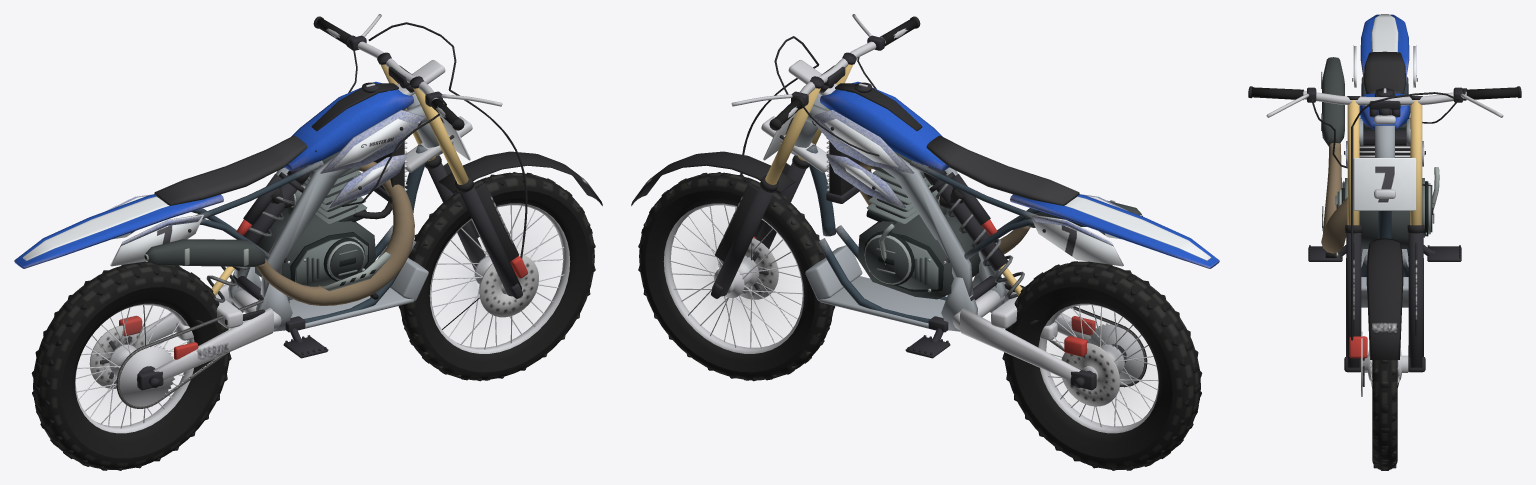
File: street01-bike-mobile.glb
The picture shows the model from 3 angles, left to right: view 1: azimuth 30°, elevation 25°; view 2: azimuth 150°, elevation 25°; view 3: azimuth 270°, elevation 25°; orthographic projection. The views are drawn at different scales.
Parts seen in each view (by area): view 1: wheel_rear, bodywork, wheel_front, frame, exhaust, engine, fork_lower, swingarm, fork_upper, handlebar, sprocket_rear, shock_body (+7 smaller); view 2: wheel_rear, bodywork, wheel_front, frame, engine, fork_lower, swingarm, fork_upper, handlebar, wheel_front_blur, wheel_front_spokes, shock_body (+6 smaller); view 3: fork_lower, fork_upper, bodywork, handlebar, exhaust, wheel_front, frame, engine, pegs, brake_hose.
Boxes of the visible parts, x1=… form: wheel_rear: x1=31, y1=261, x2=231, y2=470; bodywork: x1=14, y1=81, x2=424, y2=268; wheel_front: x1=398, y1=172, x2=595, y2=381; frame: x1=191, y1=93, x2=442, y2=332; exhaust: x1=144, y1=161, x2=414, y2=305; engine: x1=255, y1=150, x2=378, y2=299; fork_lower: x1=425, y1=151, x2=602, y2=298; swingarm: x1=119, y1=281, x2=281, y2=390; fork_upper: x1=377, y1=52, x2=472, y2=184; handlebar: x1=313, y1=14, x2=502, y2=206; sprocket_rear: x1=117, y1=345, x2=174, y2=406; shock_body: x1=232, y1=167, x2=310, y2=270; wheel_rear: x1=1002, y1=261, x2=1202, y2=470; bodywork: x1=809, y1=81, x2=1219, y2=268; wheel_front: x1=638, y1=172, x2=835, y2=381; frame: x1=791, y1=93, x2=1042, y2=332; engine: x1=858, y1=151, x2=980, y2=299; fork_lower: x1=631, y1=151, x2=808, y2=298; swingarm: x1=952, y1=282, x2=1096, y2=390; fork_upper: x1=761, y1=52, x2=856, y2=184; handlebar: x1=731, y1=14, x2=922, y2=235; wheel_front_blur: x1=695, y1=232, x2=777, y2=321; wheel_front_spokes: x1=668, y1=205, x2=802, y2=348; shock_body: x1=923, y1=167, x2=1007, y2=270; fork_lower: x1=1344, y1=225, x2=1425, y2=372; fork_upper: x1=1347, y1=96, x2=1422, y2=225; bodywork: x1=1344, y1=14, x2=1425, y2=166; handlebar: x1=1248, y1=86, x2=1521, y2=185; exhaust: x1=1321, y1=57, x2=1360, y2=253; wheel_front: x1=1361, y1=331, x2=1408, y2=470; frame: x1=1359, y1=77, x2=1410, y2=307; engine: x1=1325, y1=123, x2=1439, y2=257; pegs: x1=1308, y1=245, x2=1461, y2=261; brake_hose: x1=1351, y1=127, x2=1353, y2=340.
Size of the model in its own units: 2.06 by 1.2 by 0.875.
Materials: 4 (4 with a texture image).
